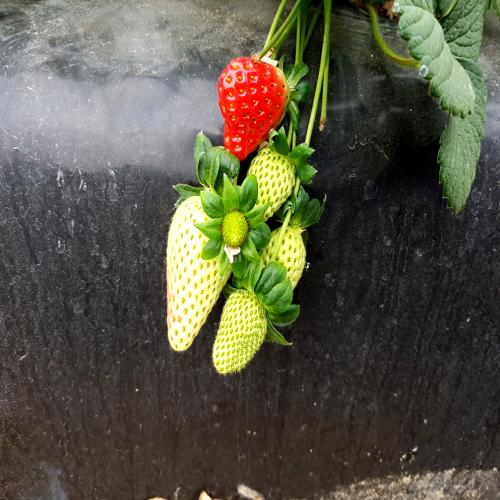unripe: (163, 179, 229, 358), (209, 272, 276, 379), (246, 150, 288, 246)
